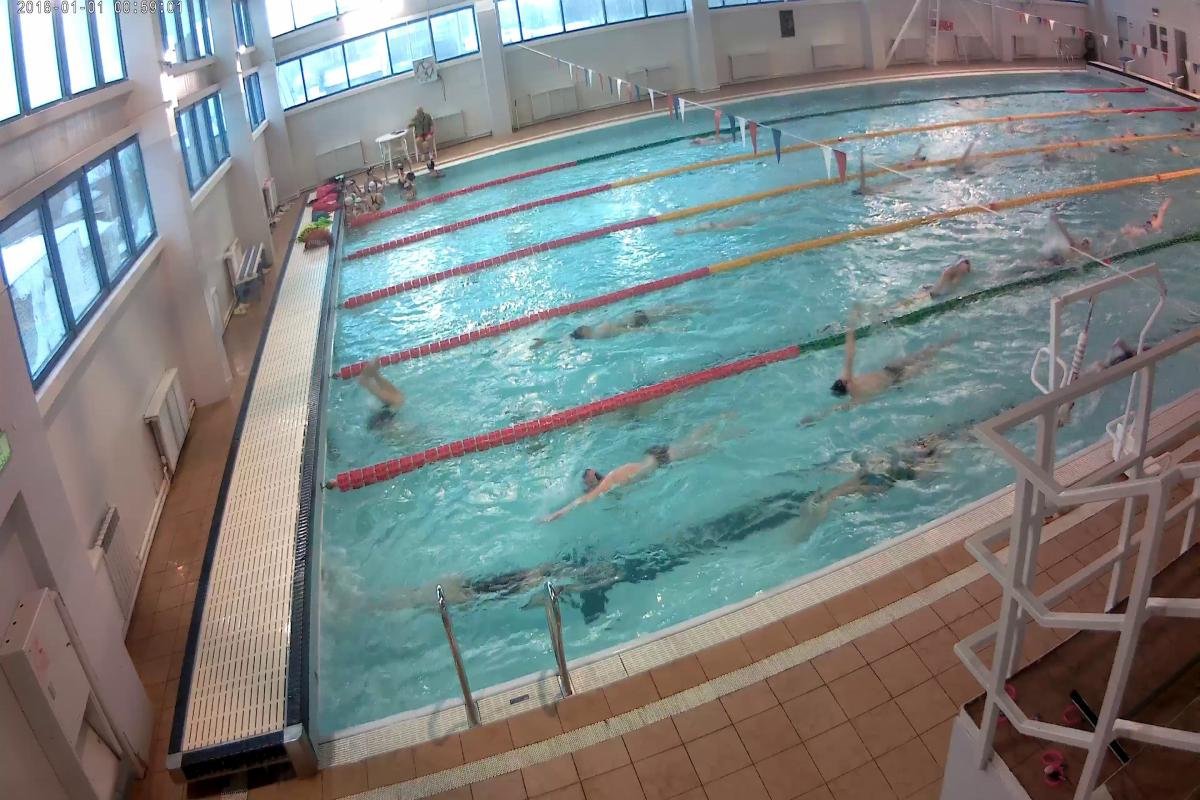swimmer: (547, 414, 732, 515), (386, 557, 590, 602), (818, 344, 941, 416), (830, 430, 941, 506), (530, 306, 694, 347), (884, 253, 966, 308), (1005, 230, 1091, 273), (372, 374, 416, 438), (1112, 206, 1172, 240)
